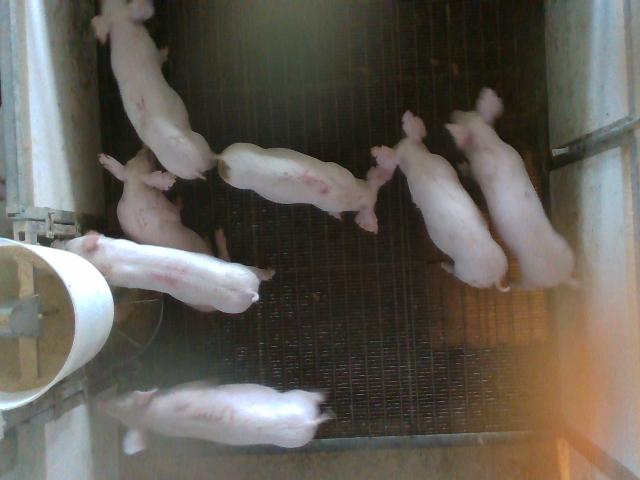pig-3: (100, 382, 331, 454)
pig-4: (65, 232, 263, 313)
pig-5: (218, 142, 396, 232)
